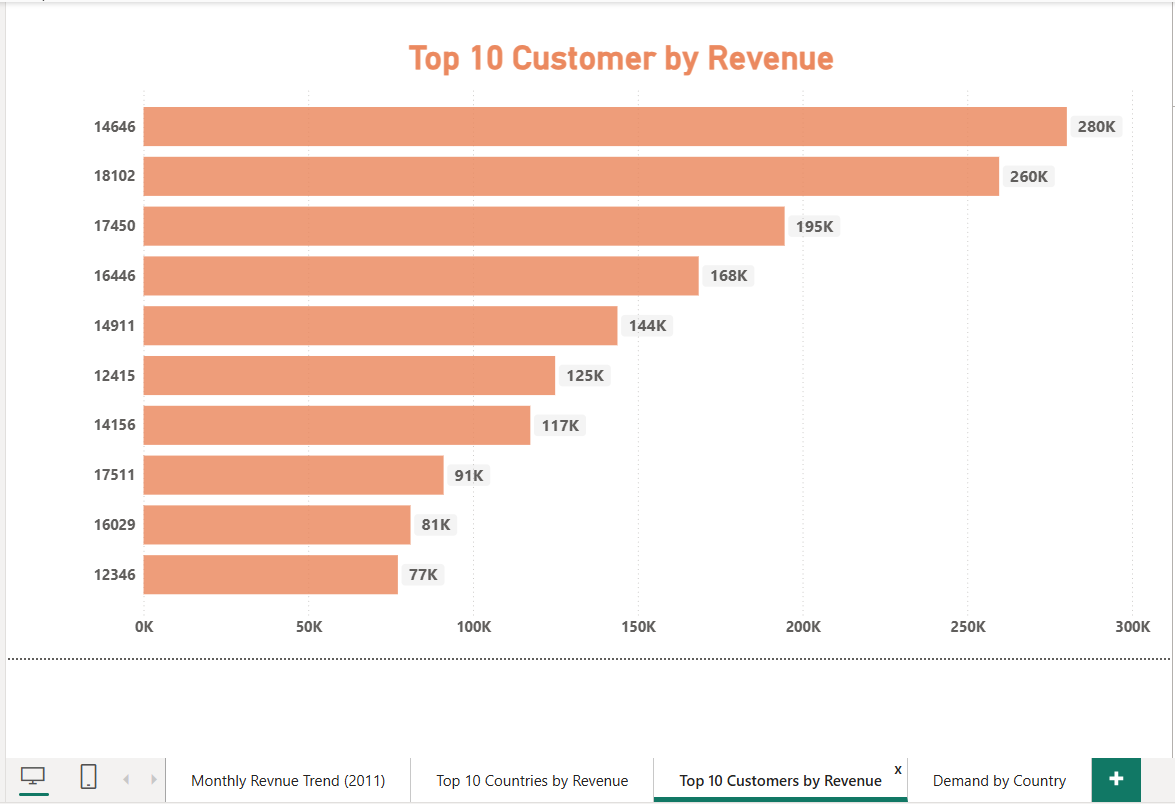

The dashboard page shown, as its layout file describes it:
{"tool":"powerbi","page":{"name":"Top 10 Customers by Revenue","canvas":[1280,720],"ordinal":2},"visuals":[{"type":"barChart","title":"Top 10 Customer by Revenue","fields":{"Y":["Sum(Online Retail.Revenue)"],"Category":["Online Retail.CustomerID"]},"box":[89.2,39.8,1173.2,668.3],"z":0}]}

Visuals, with their boxes on the page's 1280x720 design canvas (x1, y1, x2, y2). These are canvas units, not pixel positions in the 1175x804 screenshot, which may show the page scaled, cropped or inside an application window:
"Top 10 Customer by Revenue" barChart: box=[89, 40, 1262, 708]
